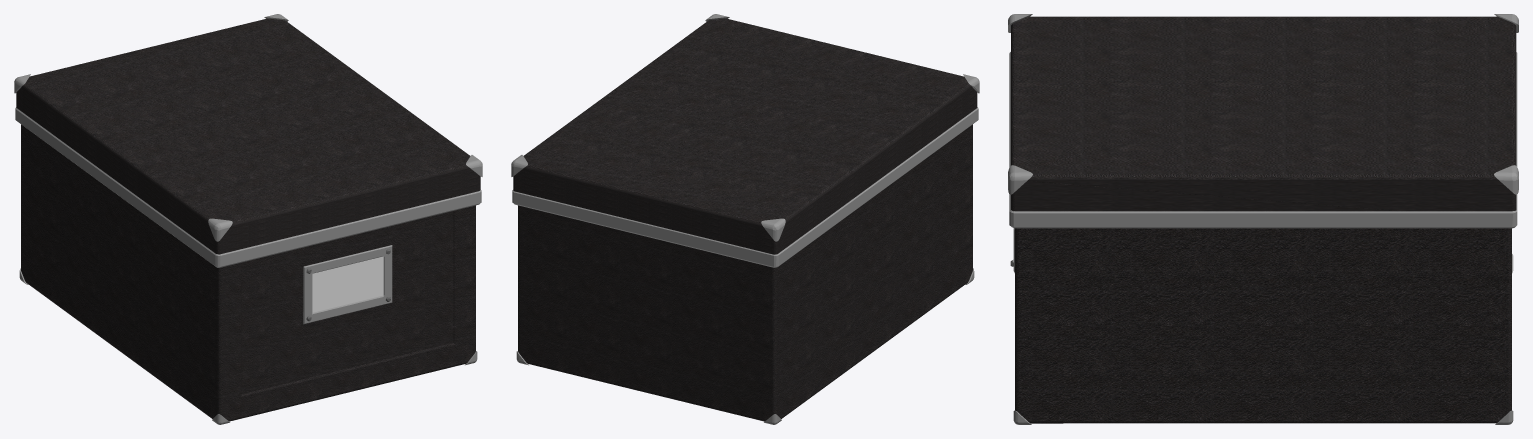
File: Caja.glb
The picture shows the model from 3 angles, left to right: view 1: azimuth 30°, elevation 25°; view 2: azimuth 150°, elevation 25°; view 3: azimuth 270°, elevation 25°; orthographic projection. The views are drawn at different scales.
Parts seen in each view (by area): view 1: c781fcf7-f2a8-48b5-8848-c7d7f28c9af7, 7c85a025-a214-4e6c-b4f0-9559e66857c4, e9a46311-416b-4d70-8580-86fc2f6dd235, a5edd4dc-5e41-46b9-96e0-5c584fa3bd6f, 889369fe-64c0-4026-b058-b3ca81935d12; view 2: c781fcf7-f2a8-48b5-8848-c7d7f28c9af7, 7c85a025-a214-4e6c-b4f0-9559e66857c4, e9a46311-416b-4d70-8580-86fc2f6dd235; view 3: 7c85a025-a214-4e6c-b4f0-9559e66857c4, c781fcf7-f2a8-48b5-8848-c7d7f28c9af7, e9a46311-416b-4d70-8580-86fc2f6dd235.
Part boxes in pixels (left/top/right/bottom): c781fcf7-f2a8-48b5-8848-c7d7f28c9af7: left=21, top=124, right=475, bottom=421; 7c85a025-a214-4e6c-b4f0-9559e66857c4: left=16, top=18, right=480, bottom=254; e9a46311-416b-4d70-8580-86fc2f6dd235: left=15, top=107, right=481, bottom=267; a5edd4dc-5e41-46b9-96e0-5c584fa3bd6f: left=312, top=256, right=383, bottom=312; 889369fe-64c0-4026-b058-b3ca81935d12: left=303, top=245, right=392, bottom=324; c781fcf7-f2a8-48b5-8848-c7d7f28c9af7: left=518, top=124, right=972, bottom=421; 7c85a025-a214-4e6c-b4f0-9559e66857c4: left=513, top=18, right=977, bottom=254; e9a46311-416b-4d70-8580-86fc2f6dd235: left=512, top=107, right=978, bottom=267; 7c85a025-a214-4e6c-b4f0-9559e66857c4: left=1011, top=16, right=1516, bottom=211; c781fcf7-f2a8-48b5-8848-c7d7f28c9af7: left=1015, top=228, right=1511, bottom=423; e9a46311-416b-4d70-8580-86fc2f6dd235: left=1009, top=52, right=1517, bottom=228.
Bounding box in the file's own units: 0.2799 × 0.2028 × 0.3699.
5 materials, 1 textured.
